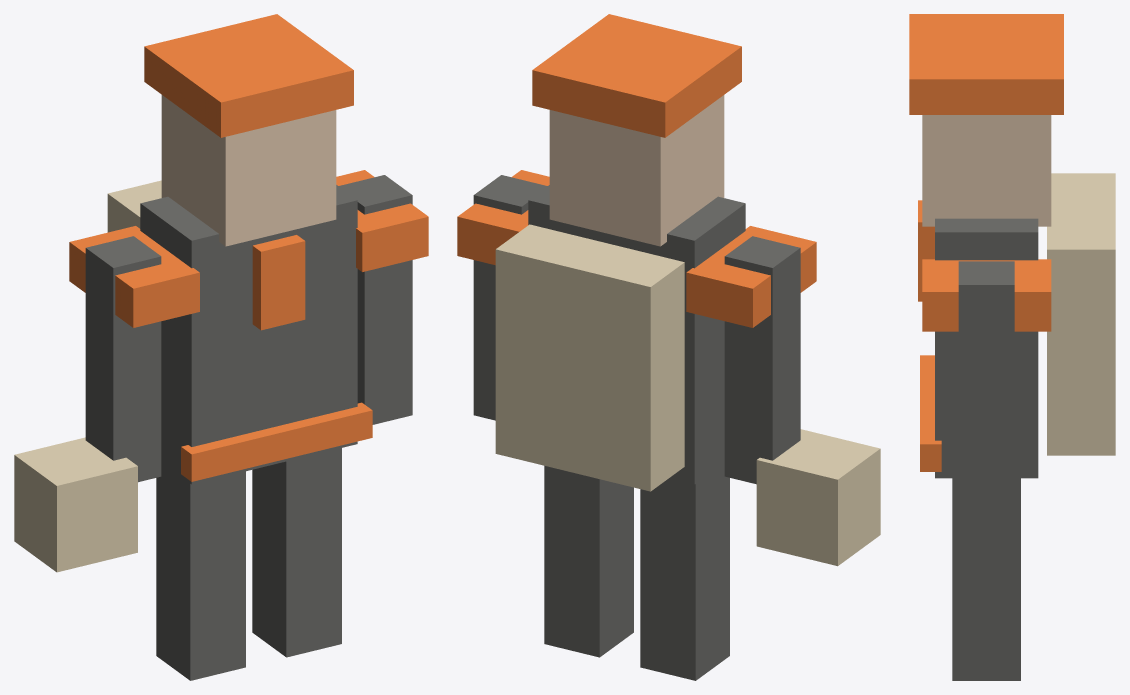
File: 07_mirek_ashvein_specialist_near.glb
The picture shows the model from 3 angles, left to right: view 1: azimuth 30°, elevation 25°; view 2: azimuth 150°, elevation 25°; view 3: azimuth 270°, elevation 25°; orthographic projection.
Parts seen in each view (by area): view 1: Mirek Ashvein, Specialist near; view 2: Mirek Ashvein, Specialist near; view 3: Mirek Ashvein, Specialist near.
Part boxes in pixels (left/top/right/bottom): Mirek Ashvein, Specialist near: left=14, top=14, right=428, bottom=680; Mirek Ashvein, Specialist near: left=457, top=14, right=880, bottom=680; Mirek Ashvein, Specialist near: left=909, top=14, right=1115, bottom=680.
Size of the model in its own units: 1.08 by 1.66 by 0.5203.
